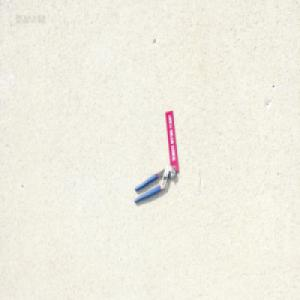Label: (165, 108, 179, 171)
Pliers: (133, 165, 176, 203)
